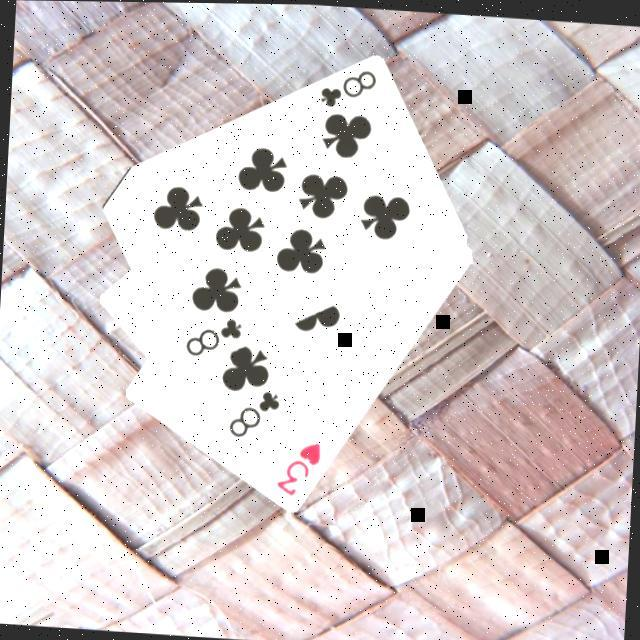3H: (271, 436, 324, 502)
8C: (223, 384, 283, 444), (180, 312, 244, 363), (316, 64, 380, 114)
